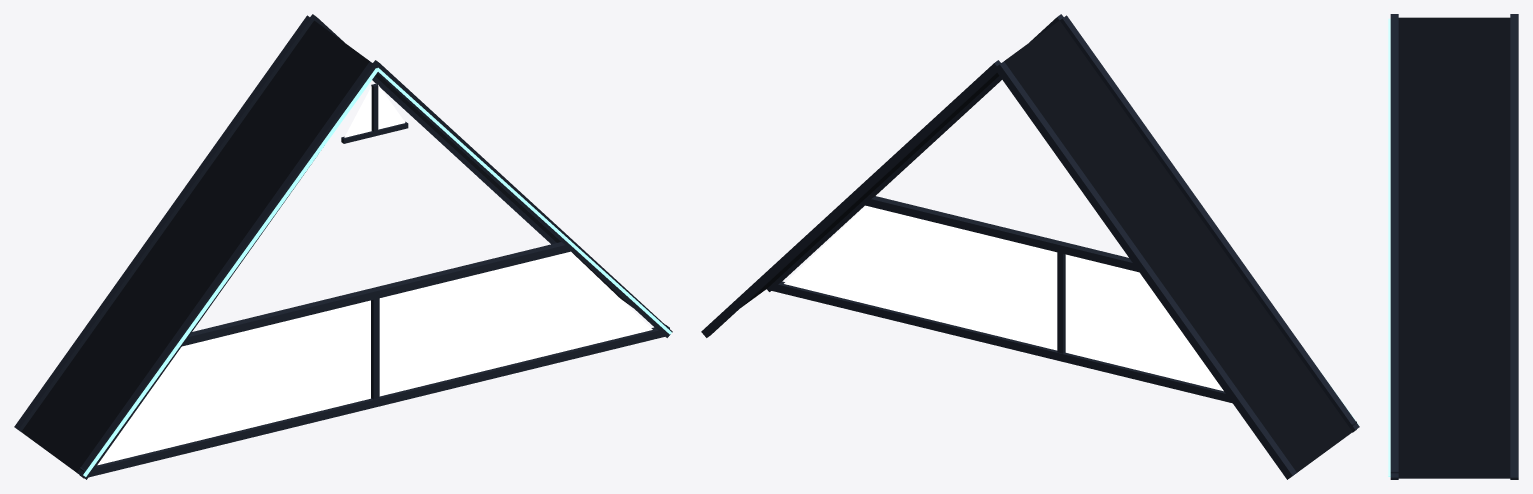
The model's file is piramide.glb.
The picture shows the model from 3 angles, left to right: view 1: azimuth 30°, elevation 25°; view 2: azimuth 150°, elevation 25°; view 3: azimuth 270°, elevation 25°; orthographic projection. The views are drawn at different scales.
Parts seen in each view (by area): view 1: Piramide_Lateral_-1, Piramide_Panel_R, Piramide_Panel_L, Piramide, Piramide_Base, Piramide_Consola, Piramide_Arista_-1, Piramide_Fondo_-1, Piramide_Led_Arista_-1, Piramide_Centro; view 2: Piramide_Lateral_-1, Piramide_Panel_R, Piramide_Panel_L, Piramide, Piramide_Fondo_-1, Piramide_Base, Piramide_Arista_-1, Piramide_Consola, Piramide_Centro; view 3: Piramide.
Part boxes in pixels (left/top/right/bottom): Piramide_Lateral_-1: left=21, top=20, right=369, bottom=472; Piramide_Panel_R: left=379, top=251, right=652, bottom=396; Piramide_Panel_L: left=97, top=300, right=370, bottom=465; Piramide: left=310, top=14, right=672, bottom=337; Piramide_Base: left=79, top=324, right=669, bottom=478; Piramide_Consola: left=182, top=242, right=573, bottom=346; Piramide_Arista_-1: left=77, top=61, right=379, bottom=479; Piramide_Fondo_-1: left=14, top=15, right=313, bottom=431; Piramide_Led_Arista_-1: left=83, top=68, right=378, bottom=476; Piramide_Centro: left=371, top=298, right=379, bottom=399; Piramide_Lateral_-1: left=1004, top=20, right=1352, bottom=472; Piramide_Panel_R: left=784, top=206, right=1057, bottom=350; Piramide_Panel_L: left=1065, top=254, right=1223, bottom=391; Piramide: left=701, top=14, right=1063, bottom=337; Piramide_Fondo_-1: left=994, top=61, right=1296, bottom=479; Piramide_Base: left=767, top=281, right=1356, bottom=432; Piramide_Arista_-1: left=1060, top=15, right=1359, bottom=431; Piramide_Consola: left=862, top=196, right=1256, bottom=296; Piramide_Centro: left=1057, top=252, right=1065, bottom=353; Piramide: left=1388, top=16, right=1518, bottom=479.
Bounding box in the file's own units: 5.55 × 3.1 × 1.11.
